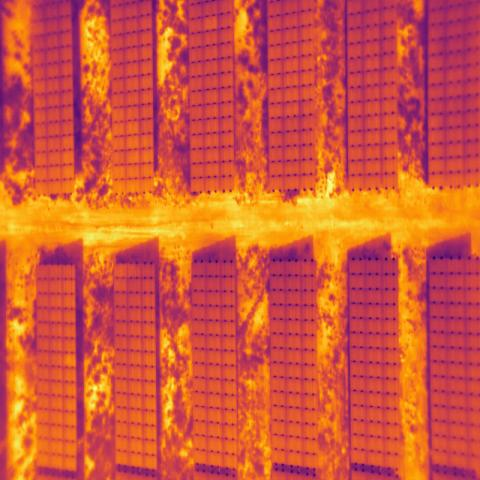fault: (63, 353, 76, 368)
